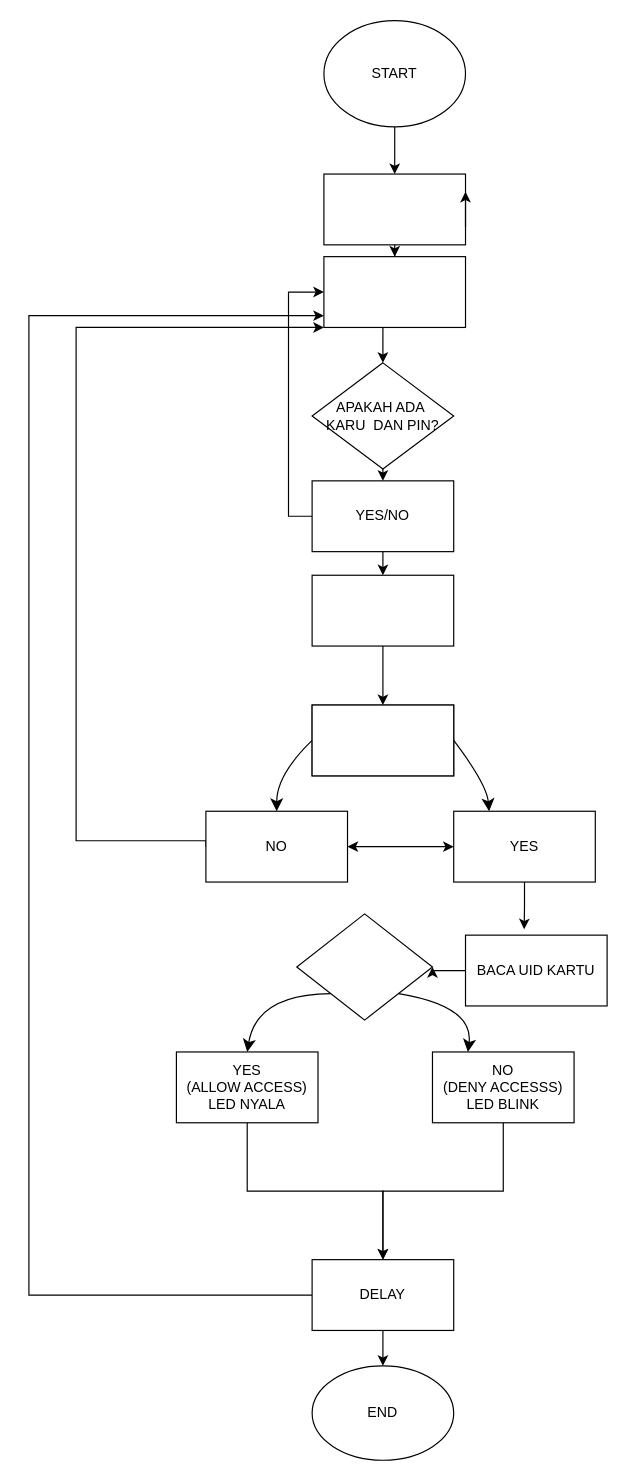
This 628x1481 diagram has some shape labels left out. Each missing label, with the box of its shape:
BACA KARTU DAN PIN: (311, 574, 454, 646)
CHECK AKSES UID DIIZINKAN?: (296, 913, 432, 1020)
KARTU TERBACA? TAMPILKAN PADA LCD: (311, 704, 454, 776)
LOOP: (323, 255, 466, 327)
SETUP: (323, 173, 466, 245)
